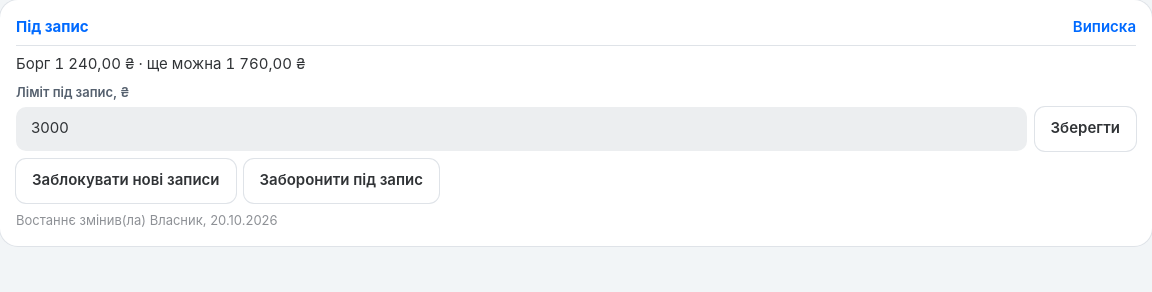
Test: CustomerPanel on the card › refuses a limit outside the server’s bounds without asking it
This screenshot has width=1152, height=292.
Replace the text in the field named "Ліміт під запис, гривень" with "200000" at (521, 128), box [16, 106, 1026, 150]
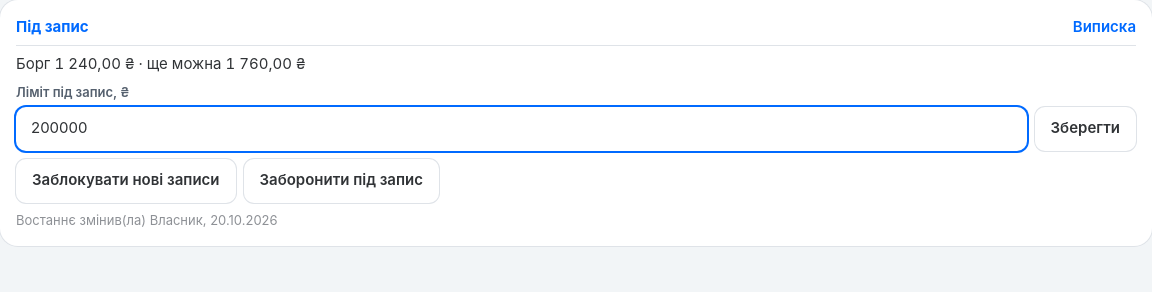
Click the button "Зберегти" at (1085, 128), box [1034, 106, 1136, 150]
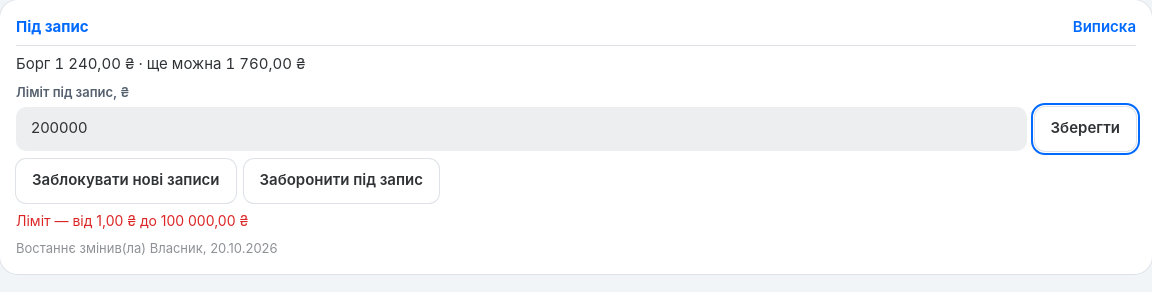
Expected: the text "Ліміт — від 1,00 ₴ до 100 000,00 ₴" is shown, [16, 212, 248, 228]
